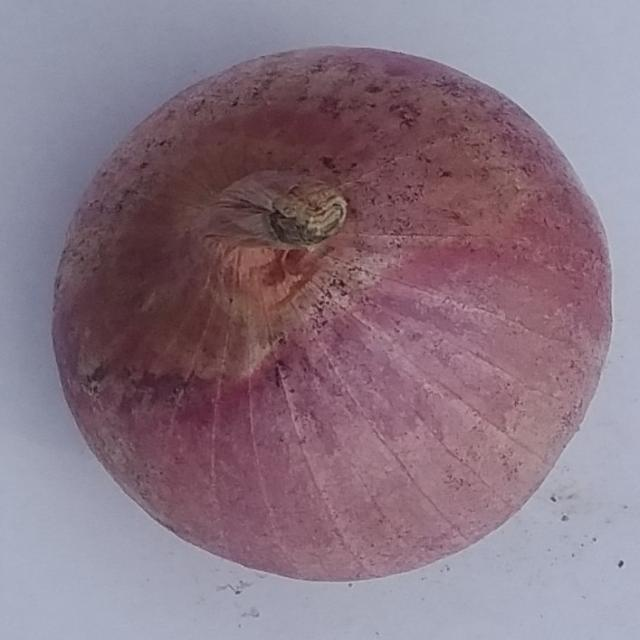onion: (52, 43, 616, 586)
